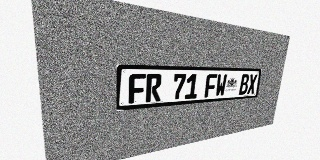1: (185, 74, 199, 99)
7: (172, 74, 186, 100)
B: (239, 74, 250, 95)
F: (129, 74, 146, 104), (204, 74, 217, 98)
R: (146, 74, 162, 102)
W: (215, 74, 227, 97)
X: (247, 74, 257, 94)
